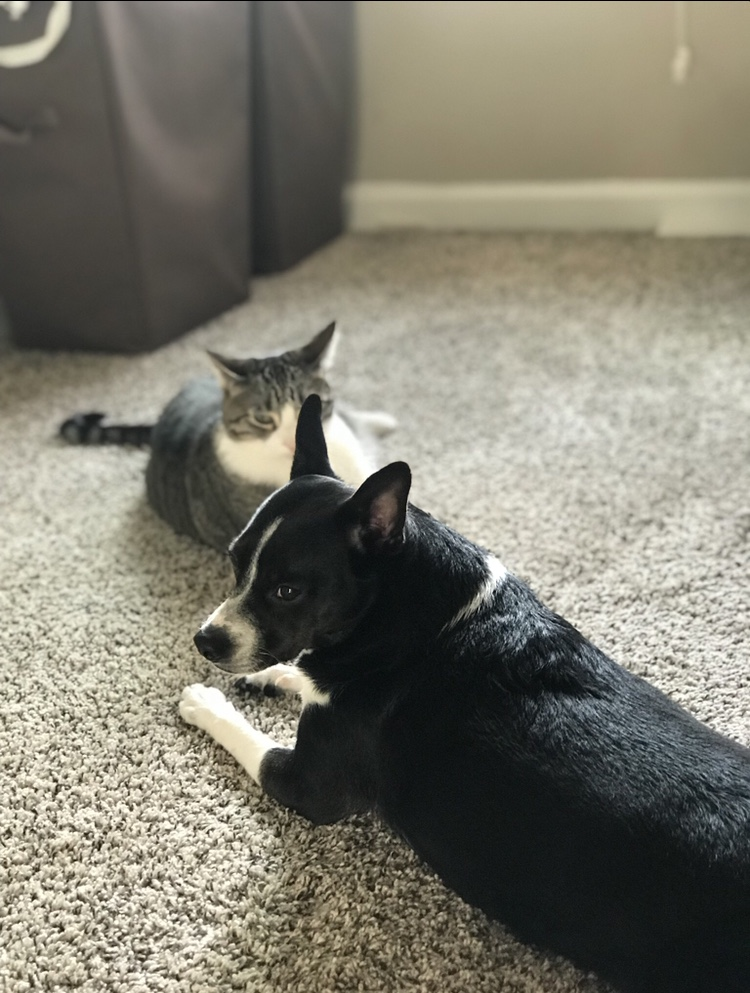Harley: (164, 391, 744, 974)
